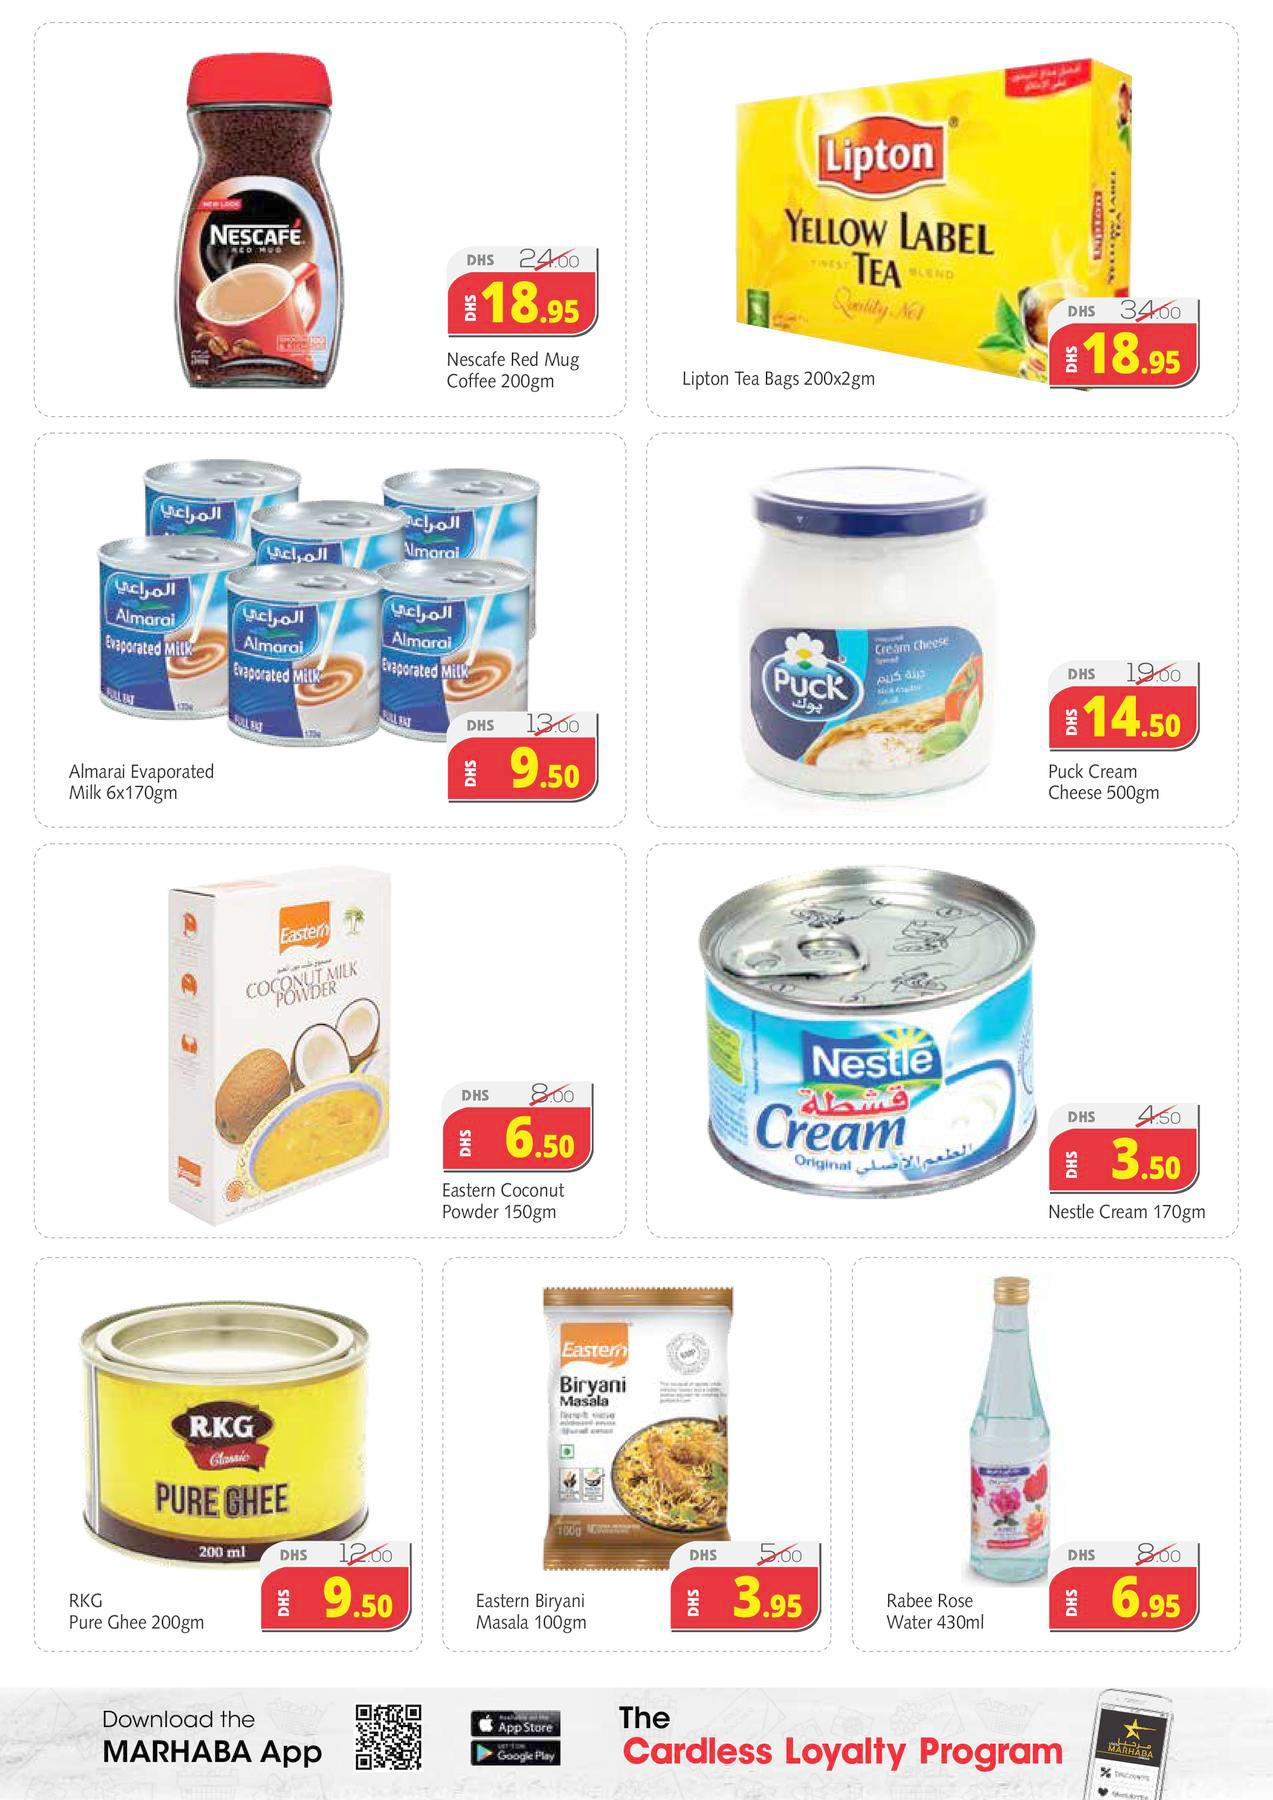text: (54, 752, 220, 811), (56, 1582, 220, 1639), (672, 359, 891, 398), (1042, 753, 1172, 815), (442, 346, 586, 401), (878, 1582, 997, 1640), (438, 1176, 570, 1228), (468, 1584, 595, 1637), (1042, 1195, 1214, 1230)
